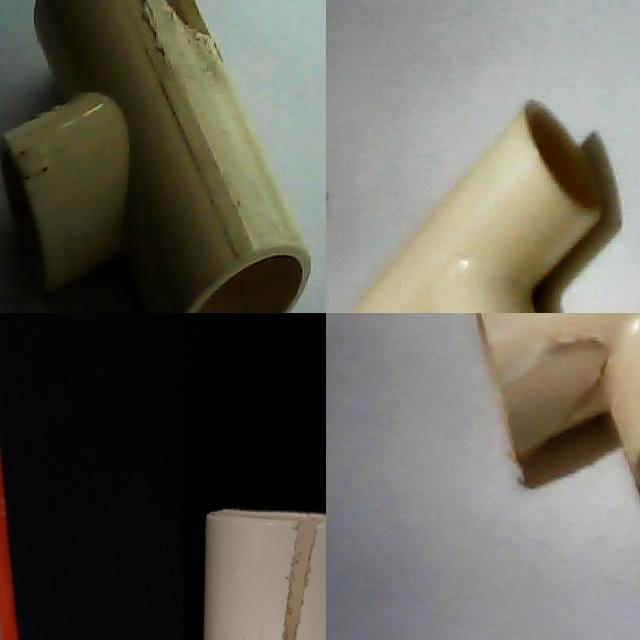Defective: (509, 321, 625, 461), (111, 0, 211, 44), (84, 625, 239, 640)
T Joint: (4, 0, 312, 313), (69, 380, 326, 640), (348, 101, 603, 313), (475, 313, 640, 492)
